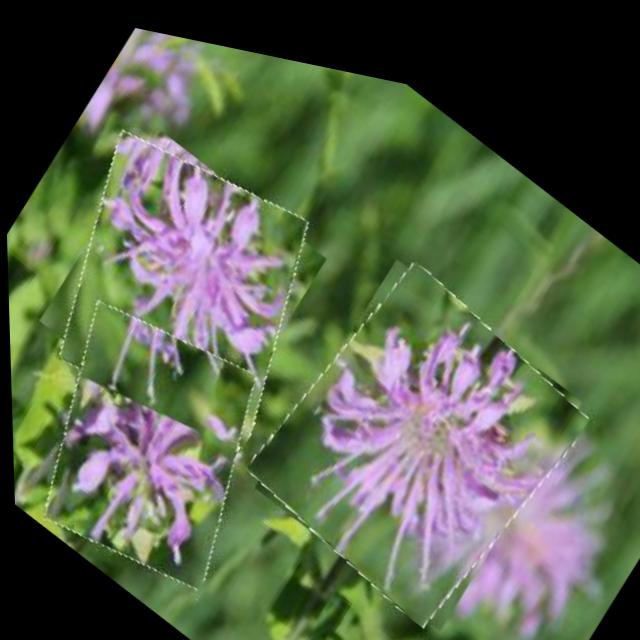Flower: (236, 208, 597, 640), (15, 85, 348, 482), (6, 262, 294, 621), (328, 633, 511, 640)
